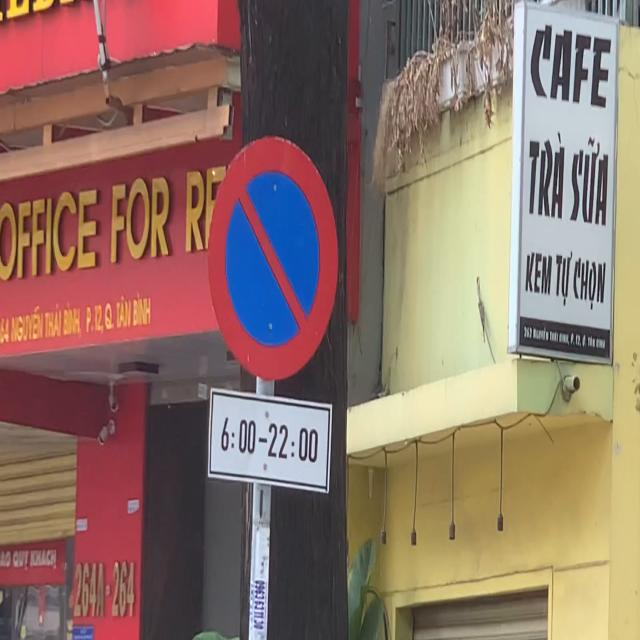Cam do: (208, 136, 339, 382)
